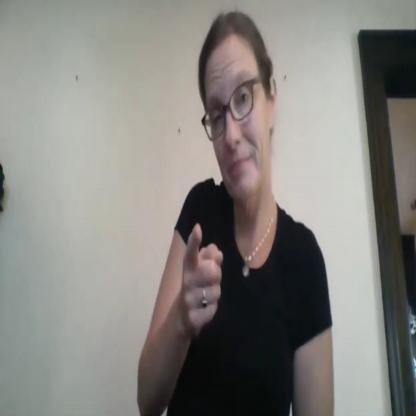HowAreYou: (178, 207, 225, 337)
